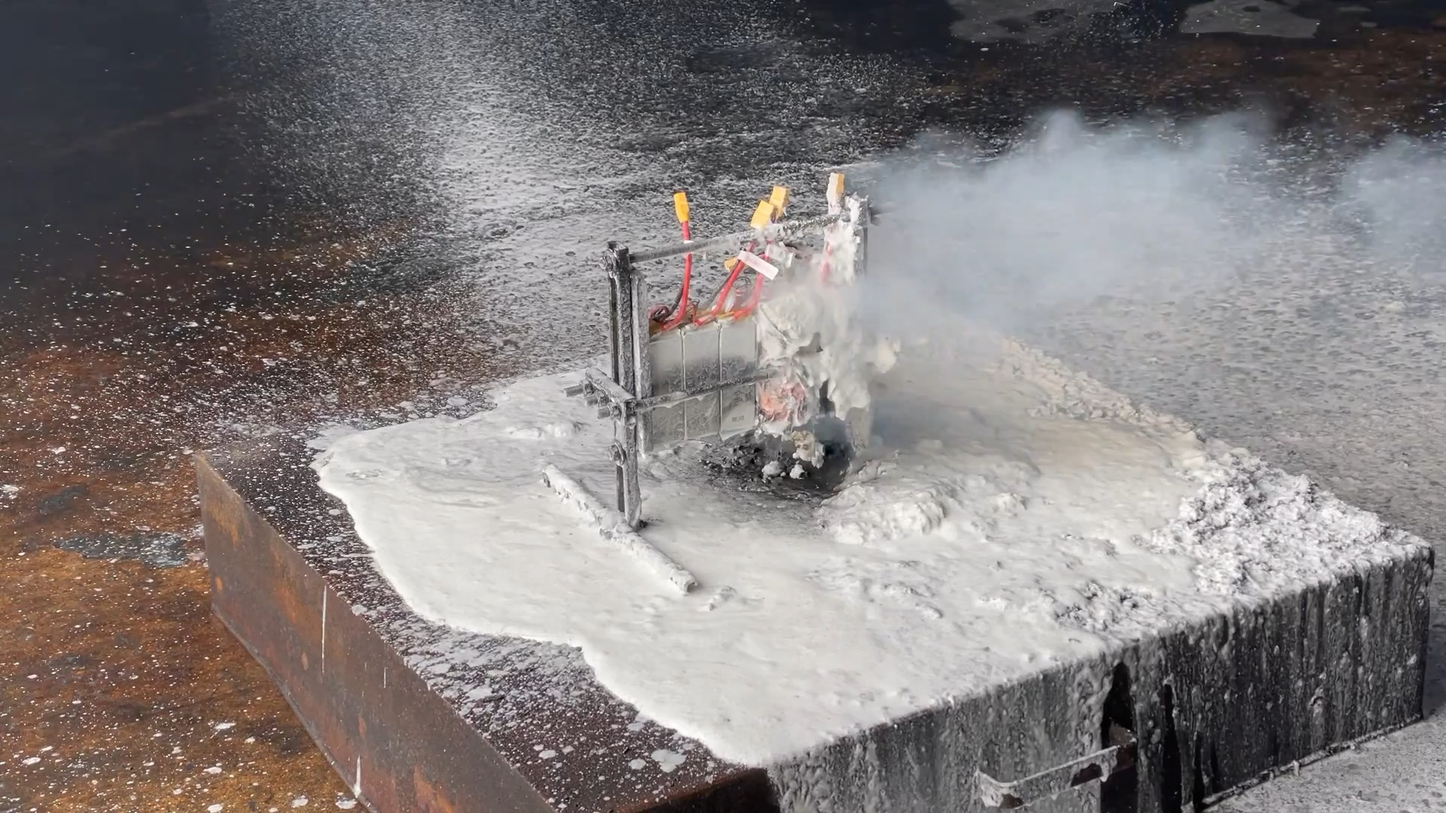smoke: (799, 95, 1445, 391)
